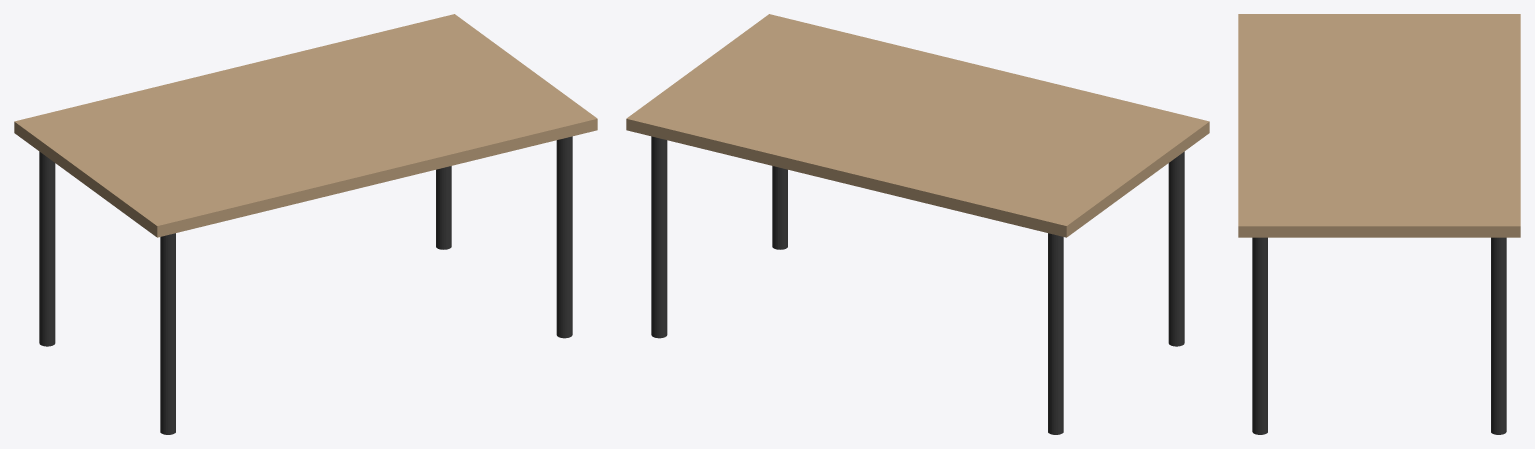
Rendered from tisch.glb.
3 renders of one model, left to right at view 1: azimuth 30°, elevation 25°; view 2: azimuth 150°, elevation 25°; view 3: azimuth 270°, elevation 25°, orthographic.
Parts seen in each view (by area): view 1: Tischplatte, Bein3, Bein0, Bein2, Bein1; view 2: Tischplatte, Bein1, Bein2, Bein0, Bein3; view 3: Tischplatte, Bein1, Bein3.
Part boxes in pixels (x1,y1,x2,y2): Tischplatte: [14, 14, 597, 237]; Bein3: [556, 136, 572, 338]; Bein0: [39, 151, 55, 346]; Bein2: [160, 233, 175, 434]; Bein1: [436, 166, 451, 249]; Tischplatte: [626, 14, 1209, 237]; Bein1: [651, 136, 667, 338]; Bein2: [1168, 151, 1184, 346]; Bein0: [1048, 233, 1063, 434]; Bein3: [772, 166, 787, 249]; Tischplatte: [1238, 14, 1520, 237]; Bein1: [1491, 237, 1506, 434]; Bein3: [1252, 237, 1267, 434].
Size of the model in its own units: 1.6 by 0.76 by 0.9.
